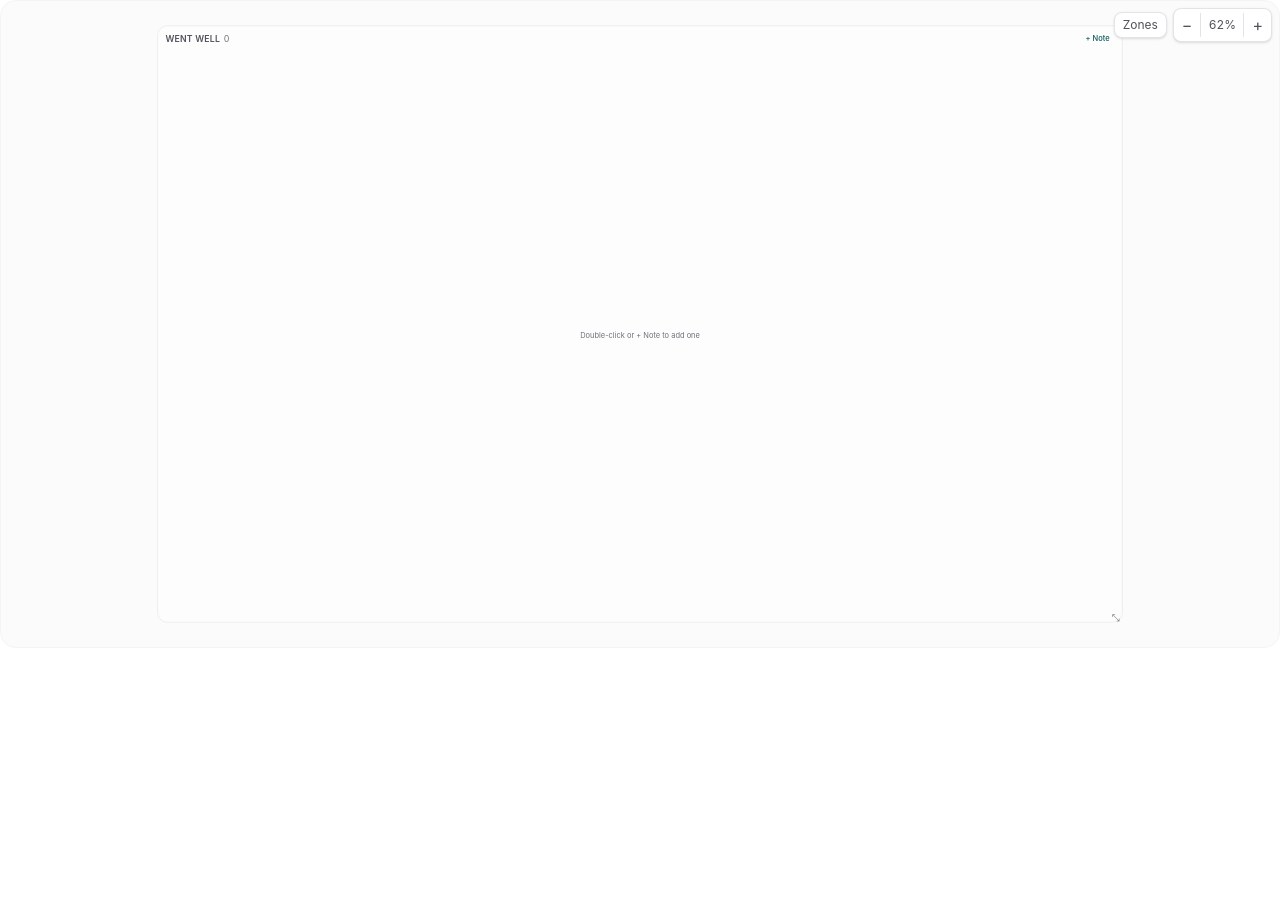
Test: double-clicking empty canvas space opens a composer
Double-click the element showing "Double-click or + Note to add one" at (640, 335), box [580,330,700,340]
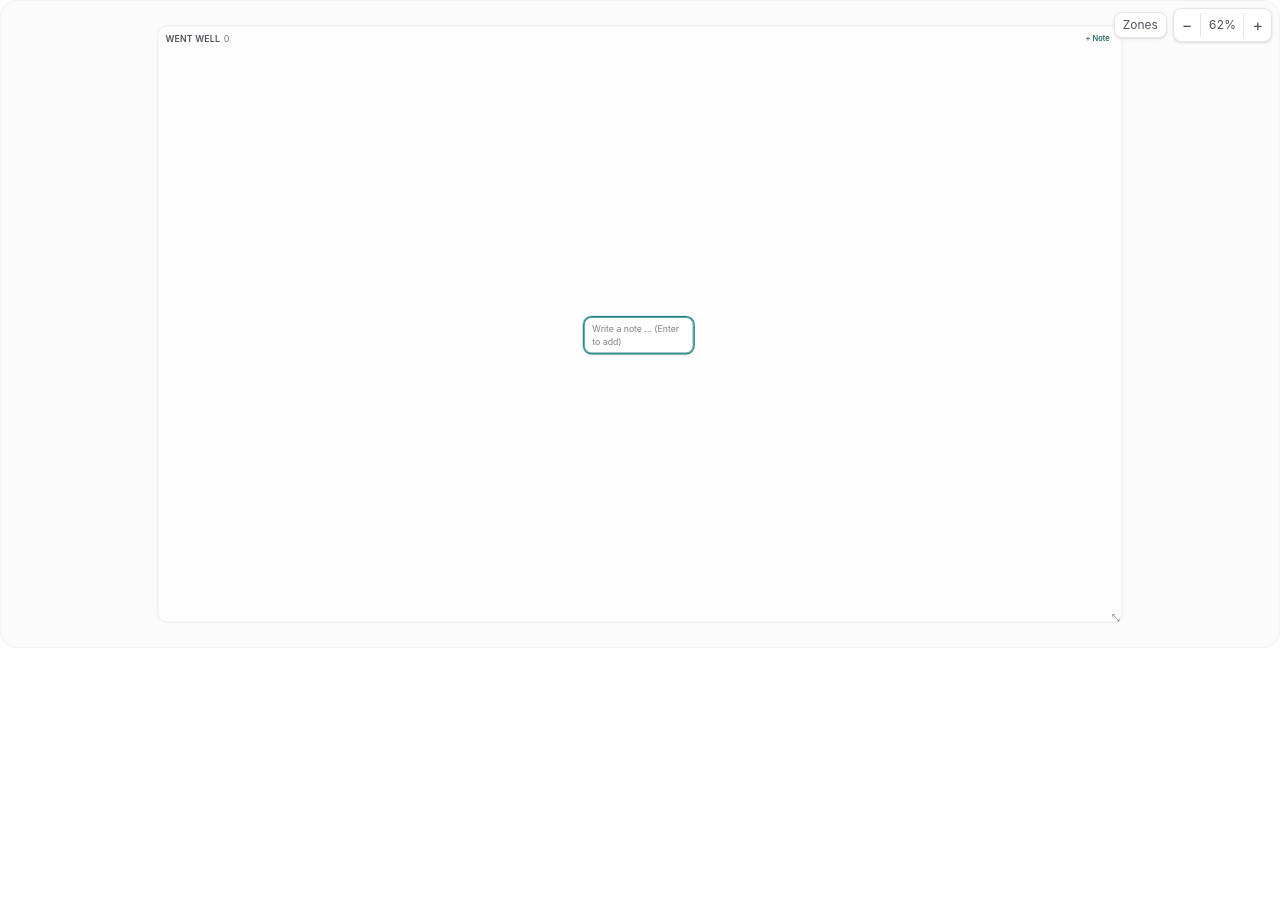
Expected: the text box with test id "canvas-composer" is shown, [584,317,694,353]
